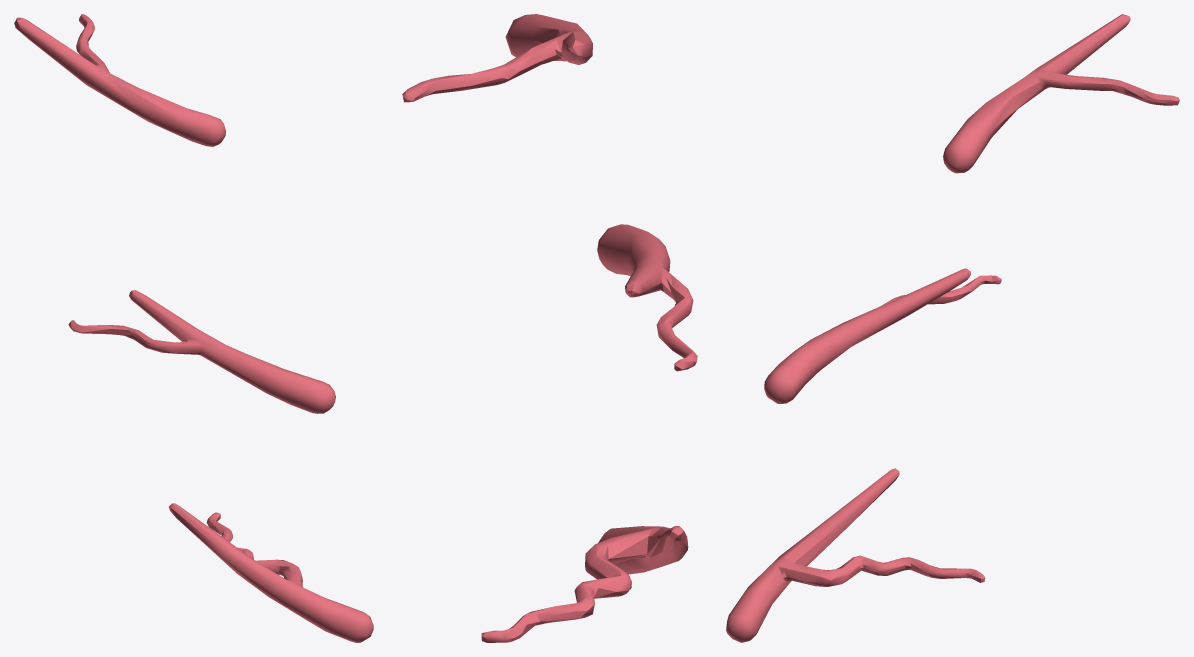
File: fma71670.glb
The picture shows the model from 3 angles, left to right: view 1: azimuth 30°, elevation 25°; view 2: azimuth 150°, elevation 25°; view 3: azimuth 270°, elevation 25°; orthographic projection. The views are drawn at different scales.
Visible parts, largest first — view 1: FMA71670; view 2: FMA71670; view 3: FMA71670.
Boxes of the visible parts, box(x1,y1,x2,y2) form: FMA71670: box(14, 14, 373, 642); FMA71670: box(402, 14, 697, 642); FMA71670: box(726, 14, 1179, 642).
Bounding box in the file's own units: 0.0138 × 0.0382 × 0.0287.
